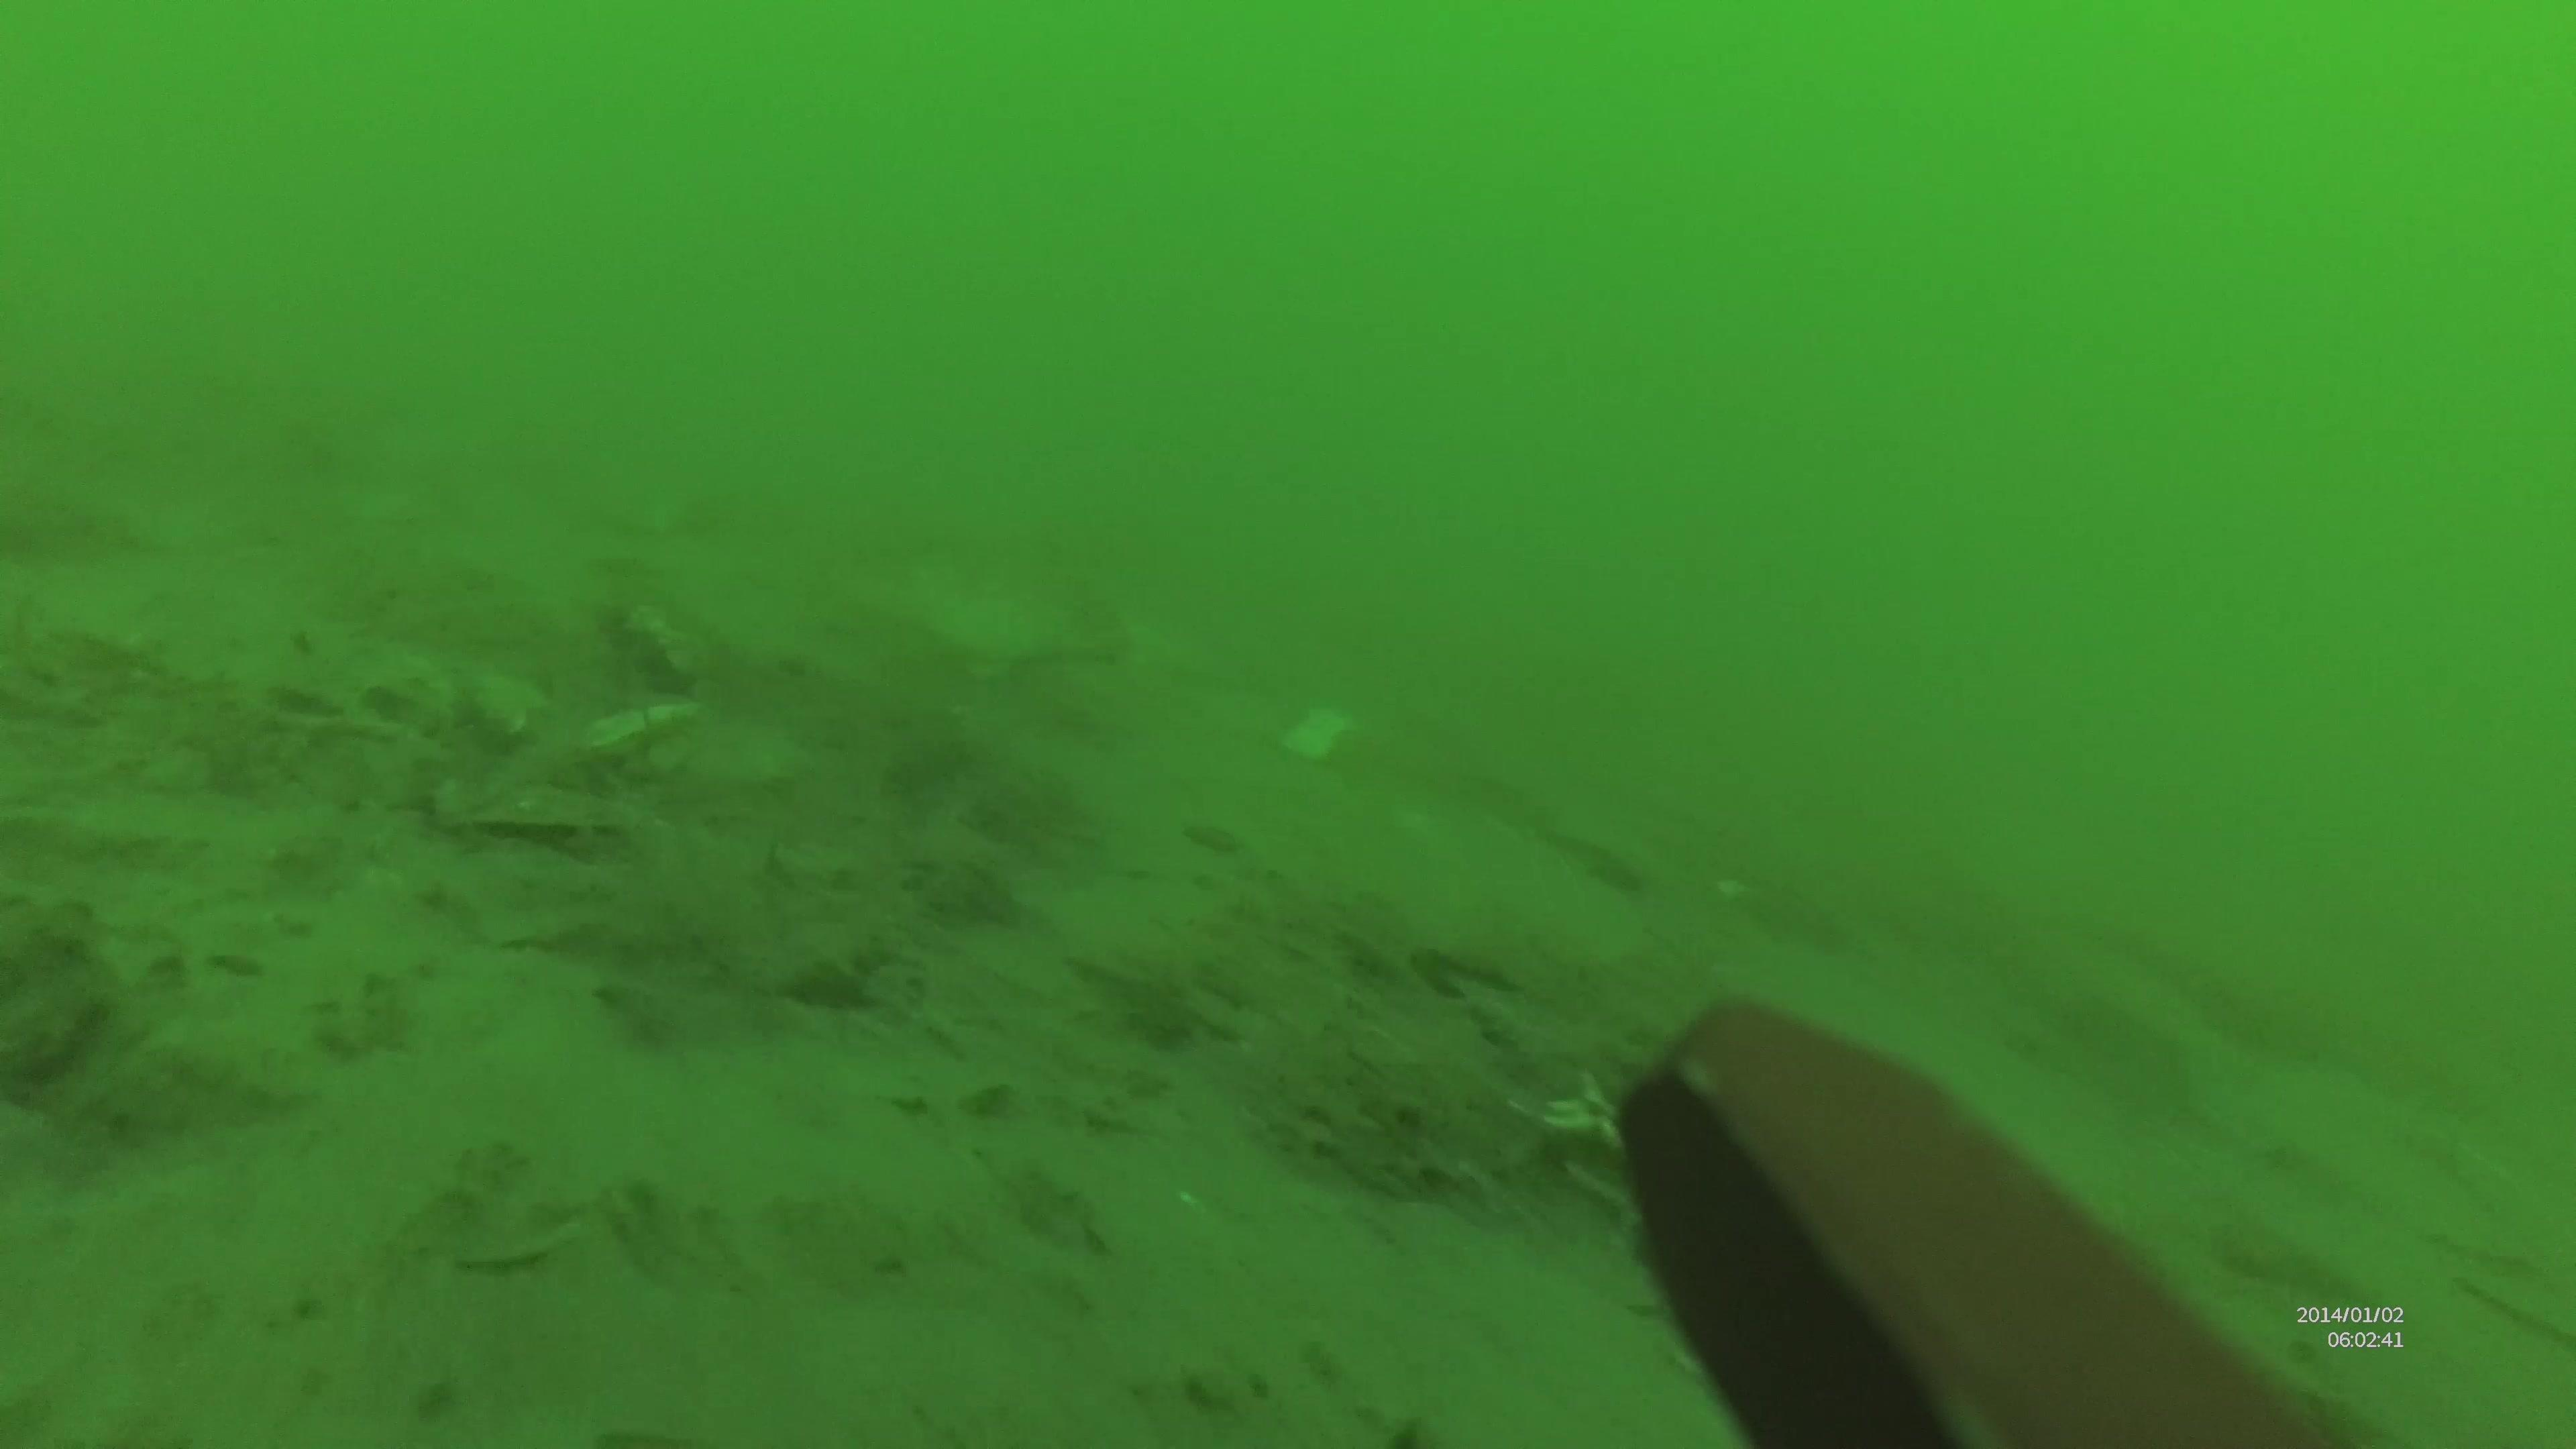starfish: (886, 556, 1152, 678)
